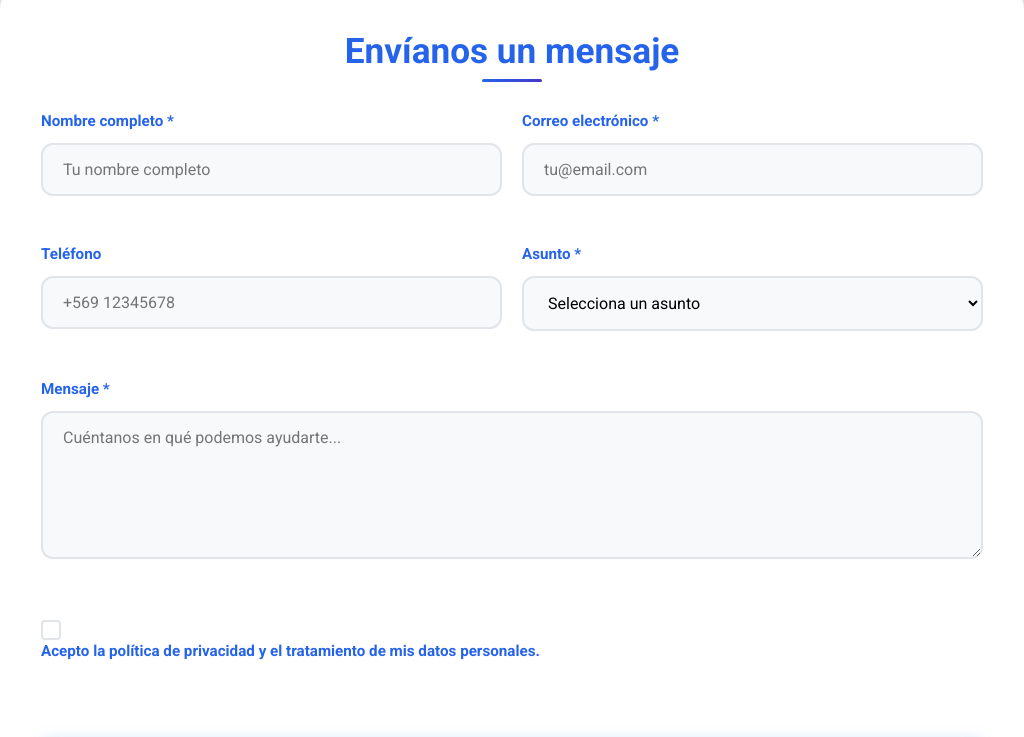
Test: <ContactForm /> › debe enviar el formulario exitosamente cuando todo es válido
// Llenar el formulario
Type "Juan Perez" into the field with placeholder "Tu nombre completo" at point(272, 170), box [41,143,502,196]
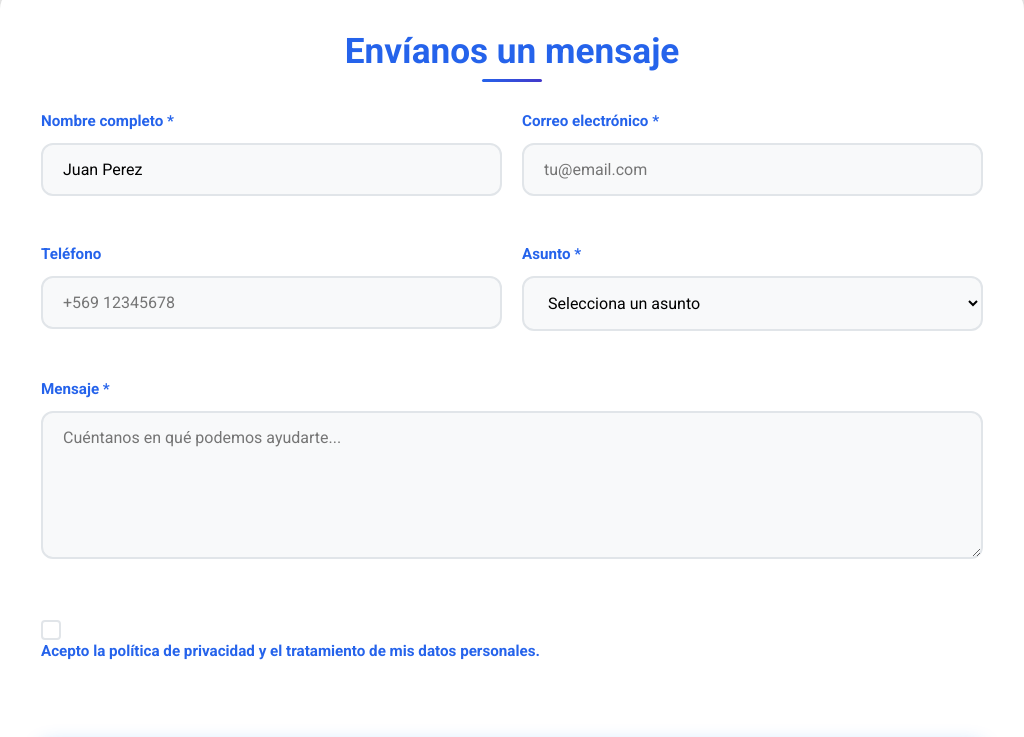
Type "juan@test.com" into the field with placeholder "tu@email.com" at point(752, 170), box [522,143,983,196]
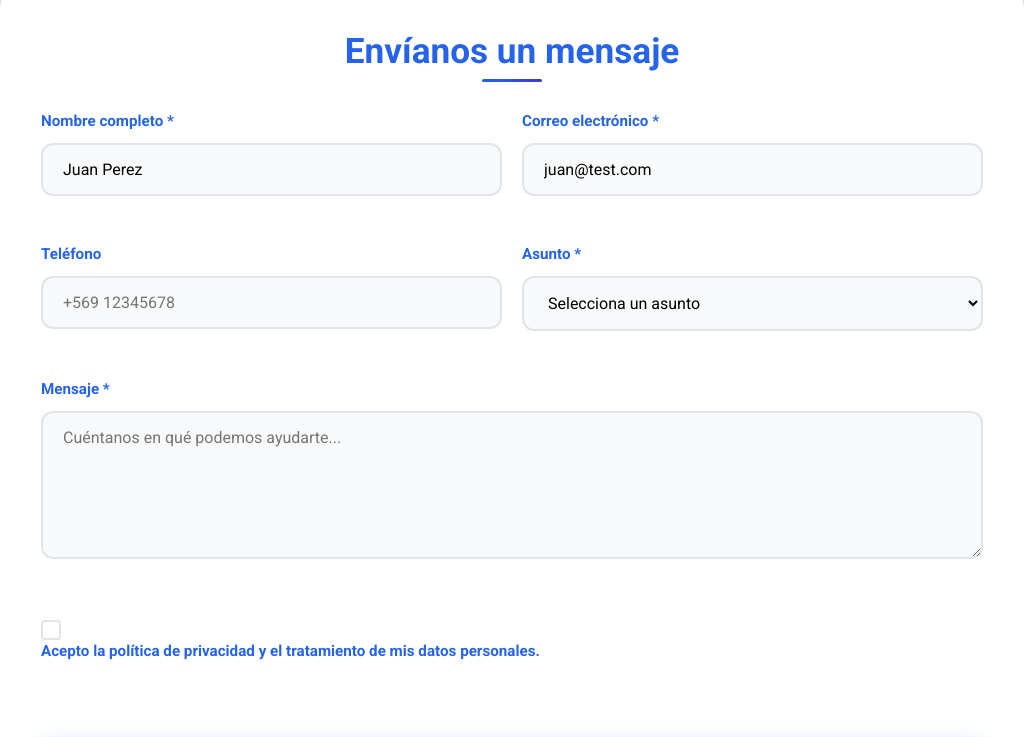
Select "Consulta general" in the dropdown at point(752, 304), box [522,276,983,331]
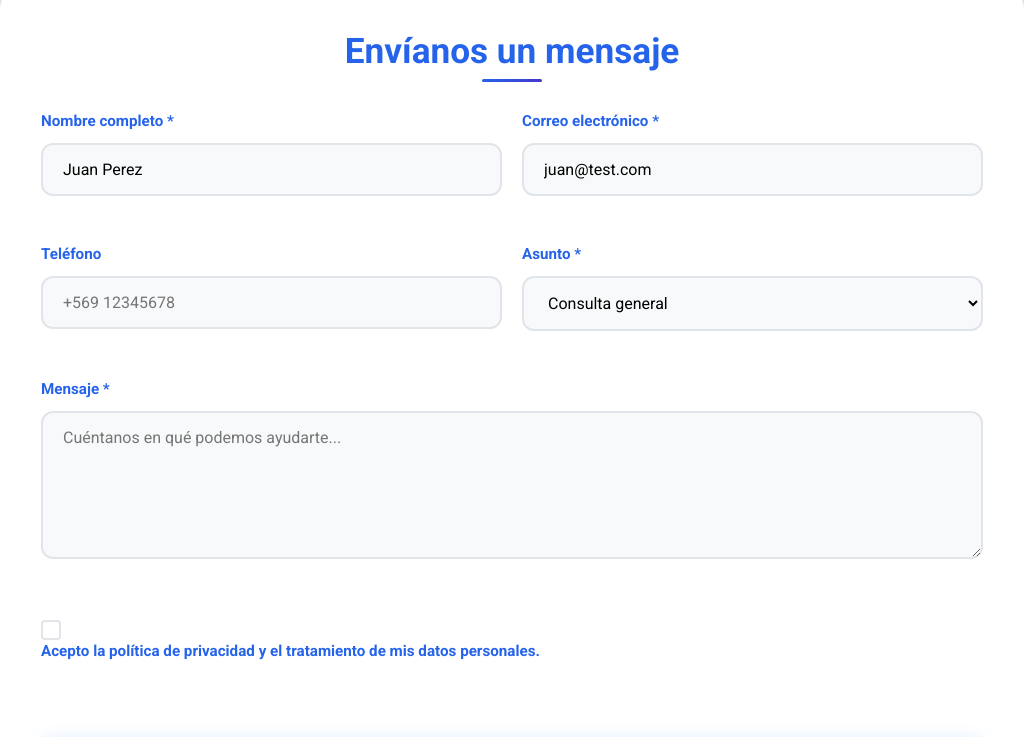
Type "Hola, quiero consultar sobre un producto." into the text box with placeholder "Cuéntanos en qué podemos ayudarte..." at point(512, 485), box [41,411,983,559]
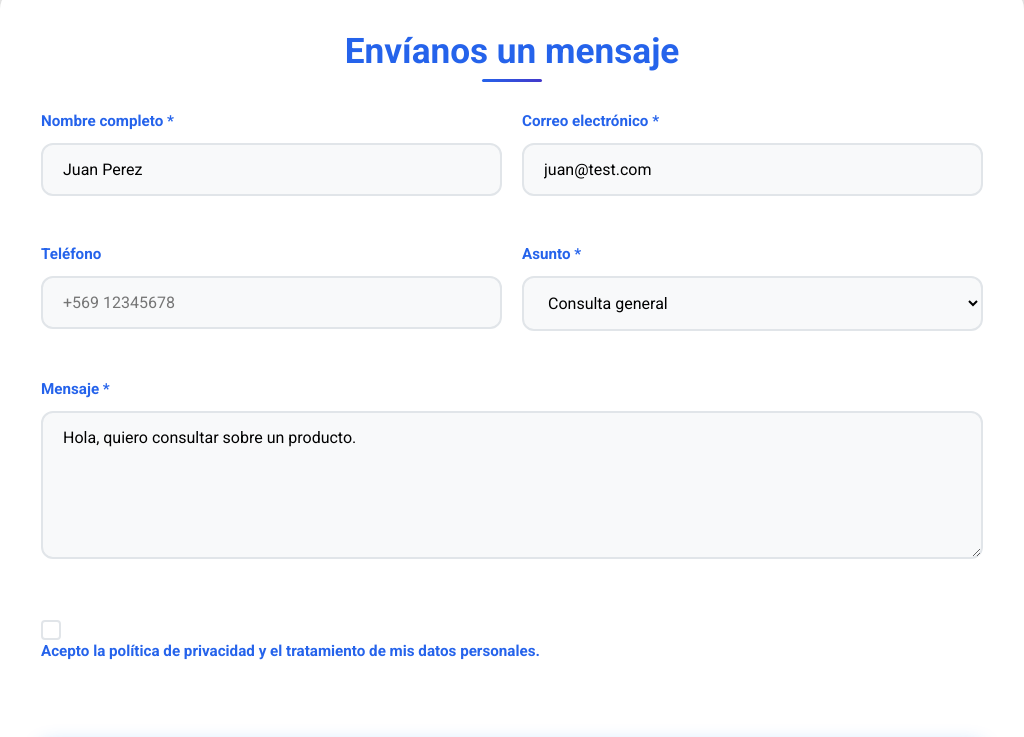
Click the checkbox at point(290, 640), box [41,620,540,660]
(page scrolled)
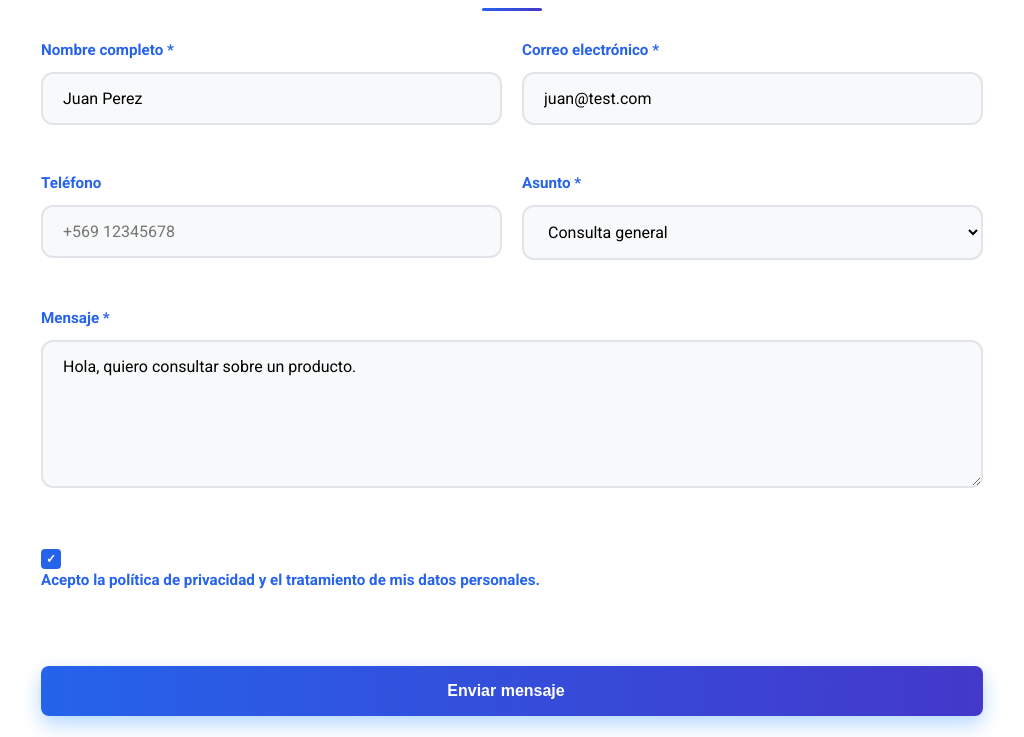
Click the button "Enviar mensaje" at point(512, 691), box [41,666,983,716]
Wait 2000 ms
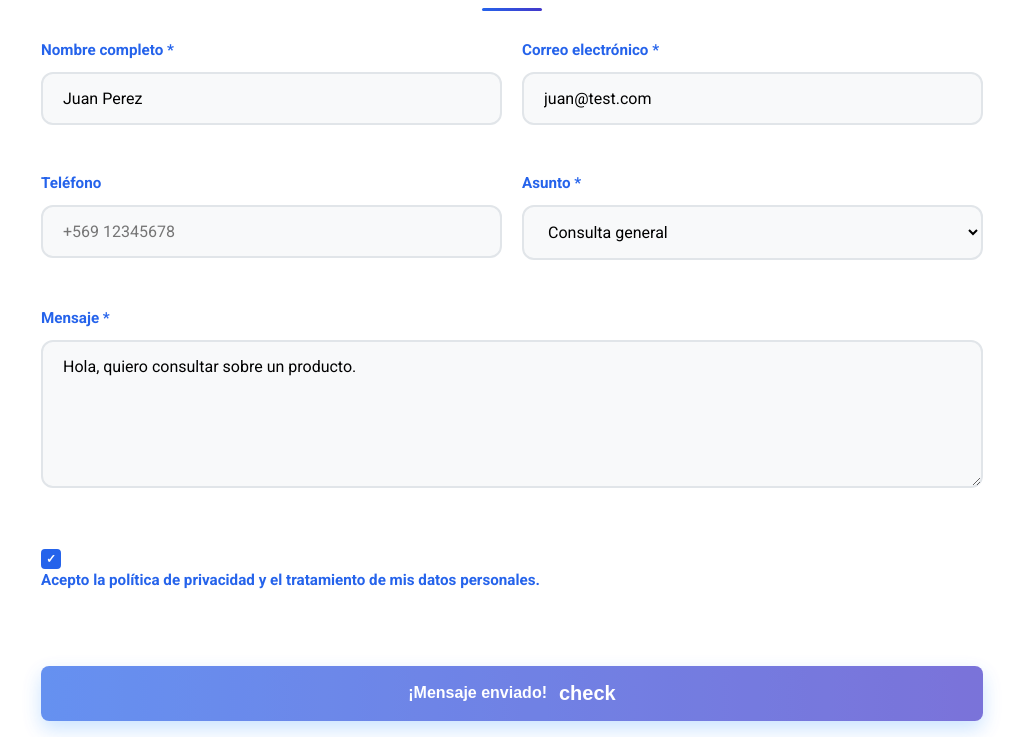
Result: the button "¡Mensaje enviado!" is shown at [408,684,547,702]
